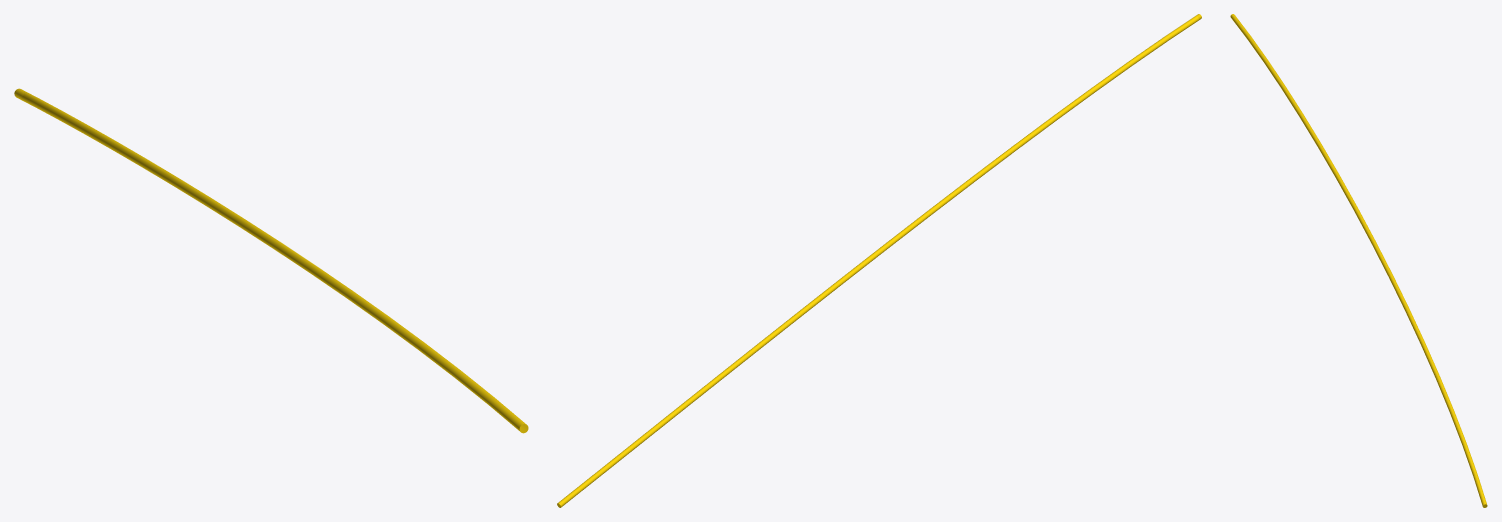
The model's file is Event_421278790_track_8.fbx.
3 views of the same model, side by side, from view 1: azimuth 90°, elevation 25°; view 2: azimuth 210°, elevation 25°; view 3: azimuth 270°, elevation 25° (orthographic). The views are drawn at different scales.
Visible parts, largest first — view 1: Model; view 2: Model; view 3: Model.
Boxes of the visible parts, x1,y1,x2,y2 form: Model: (14, 88, 528, 433); Model: (557, 14, 1201, 507); Model: (1230, 14, 1487, 507).
Bounding box in the file's own units: 6.44 × 1.51 × 2.12.
